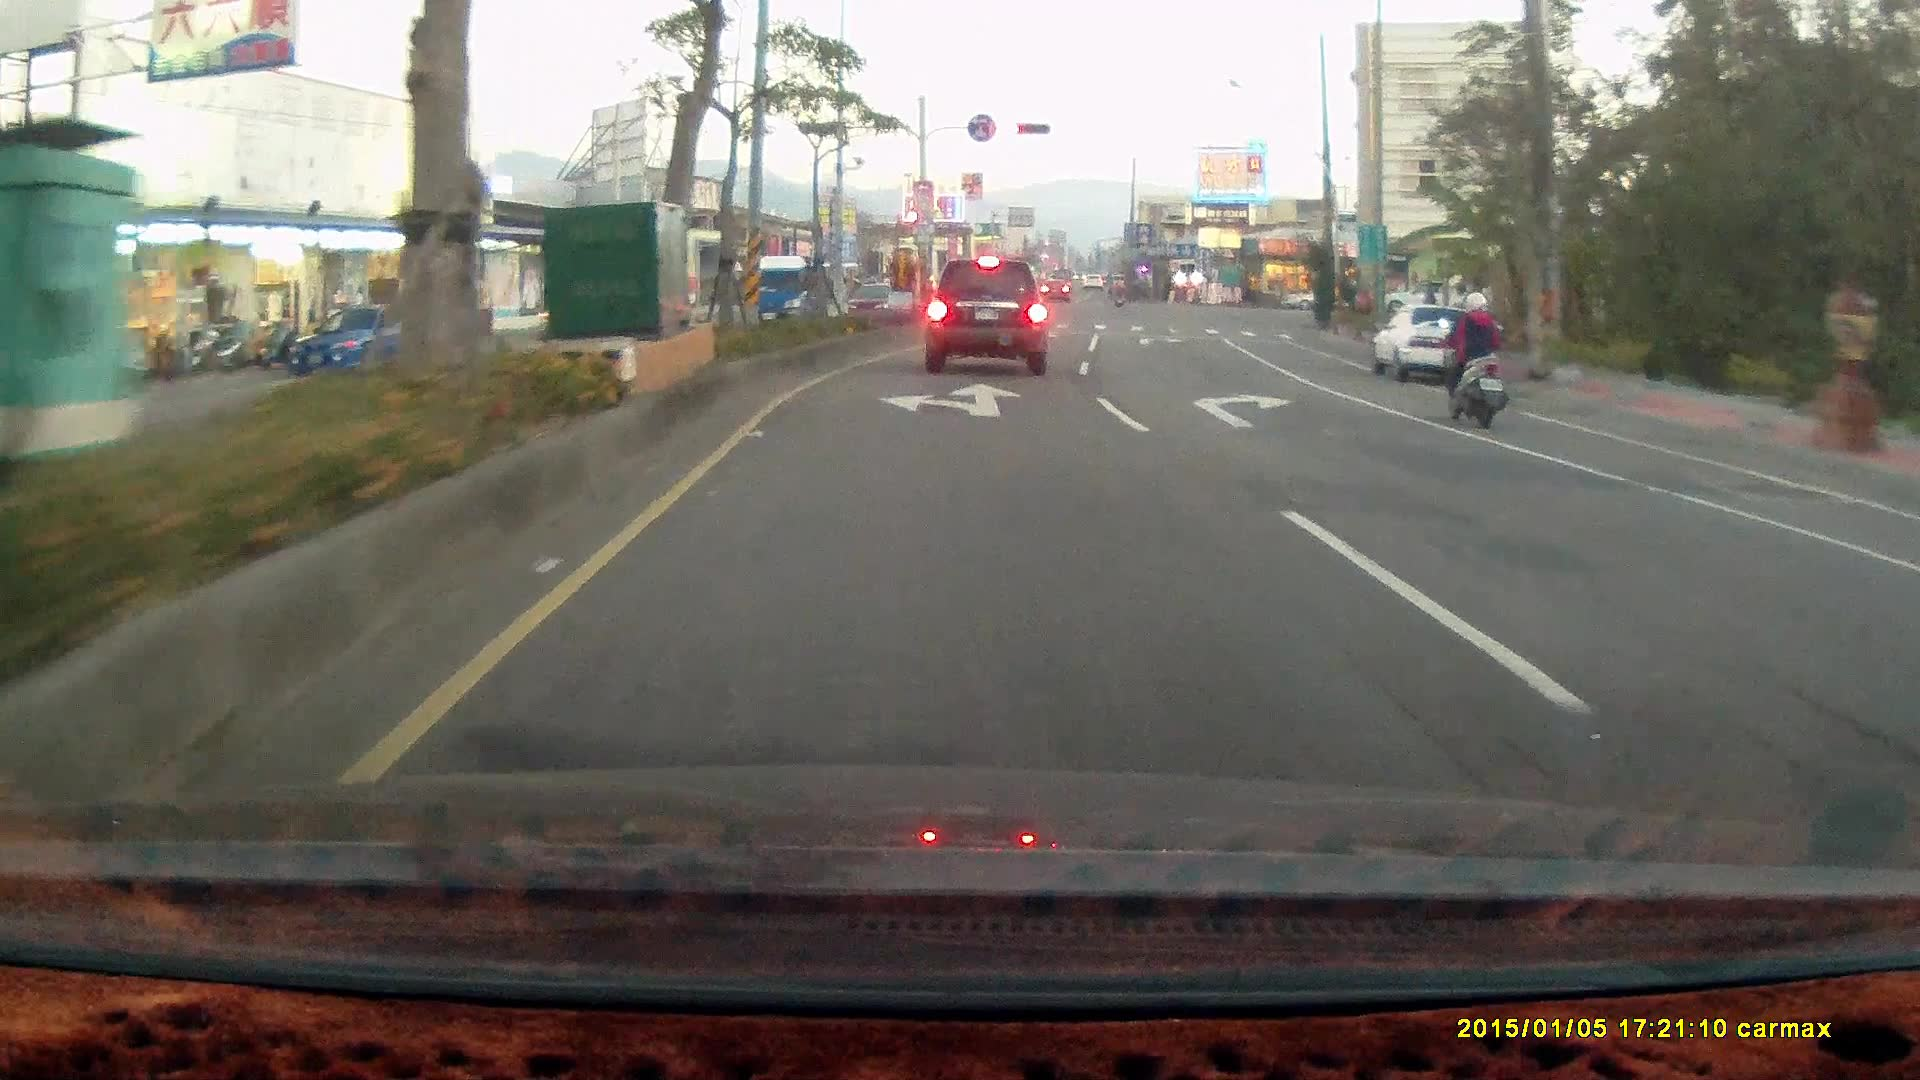rider: (1434, 287, 1512, 427)
vehicle: (923, 257, 1047, 375), (1367, 303, 1499, 386), (1374, 305, 1513, 383), (292, 303, 431, 377), (1896, 493, 1920, 836), (1883, 528, 1920, 690), (1378, 277, 1469, 316)
